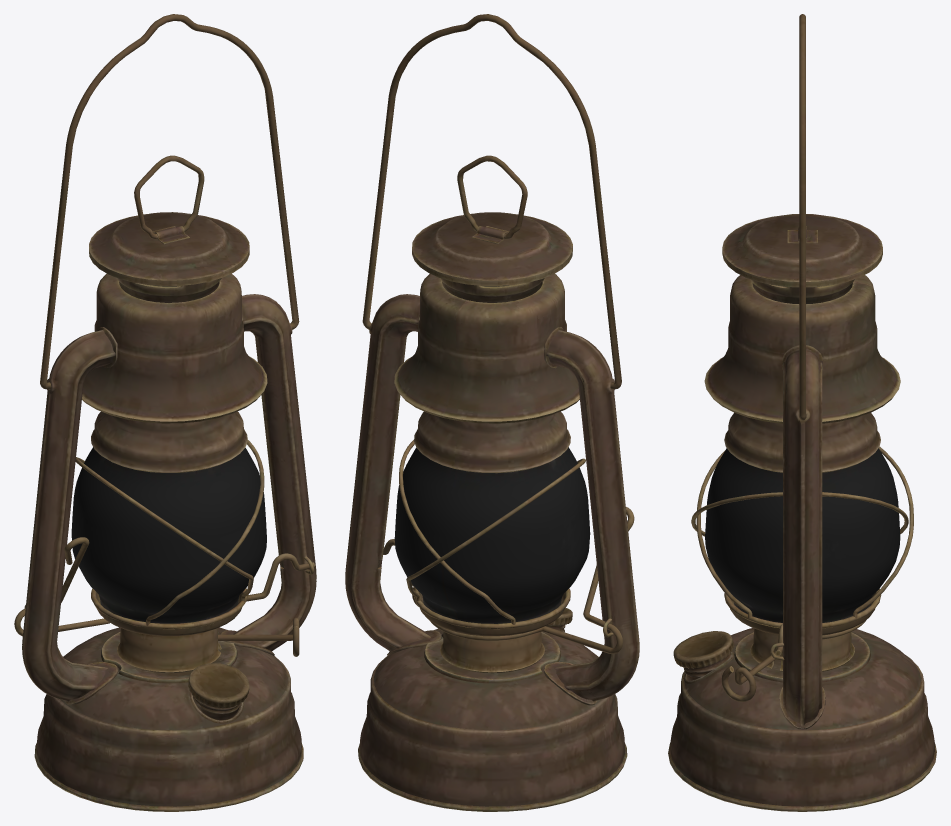
File: lantern.glb
3 renders of one model, left to right at view 1: azimuth 30°, elevation 25°; view 2: azimuth 150°, elevation 25°; view 3: azimuth 270°, elevation 25°, orthographic.
Parts seen in each view (by area): view 1: Lantern_01, Lantern_01_glass; view 2: Lantern_01, Lantern_01_glass; view 3: Lantern_01, Lantern_01_glass.
Boxes of the visible parts, left/top/right/bottom form: Lantern_01: left=14, top=14, right=316, bottom=811; Lantern_01_glass: left=71, top=447, right=266, bottom=623; Lantern_01: left=345, top=14, right=639, bottom=811; Lantern_01_glass: left=394, top=447, right=590, bottom=623; Lantern_01: left=668, top=14, right=936, bottom=811; Lantern_01_glass: left=705, top=448, right=900, bottom=622.
Size of the model in its own units: 0.1221 by 0.2942 by 0.0971.
2 materials, 2 textured.
